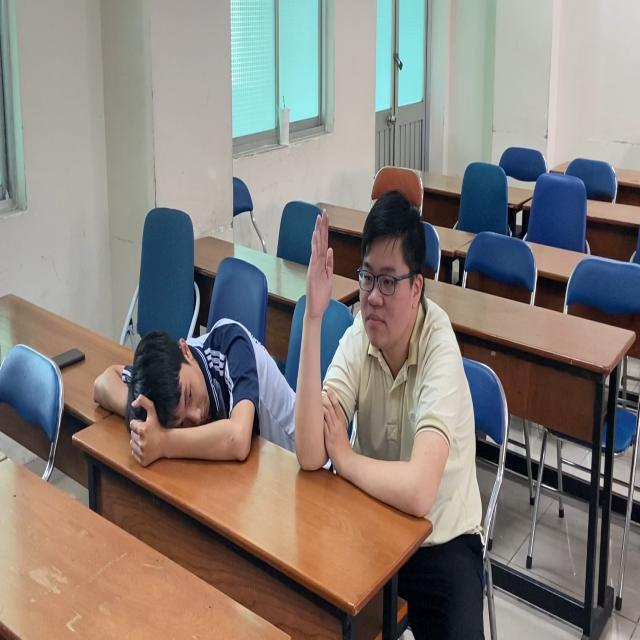raise_hand: (301, 190, 455, 517)
sleep: (93, 315, 286, 471)
